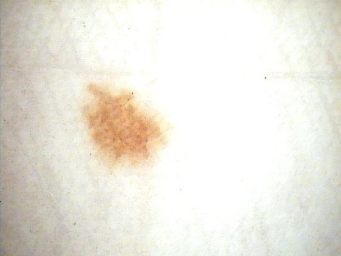melanoma: (83, 81, 167, 163)
